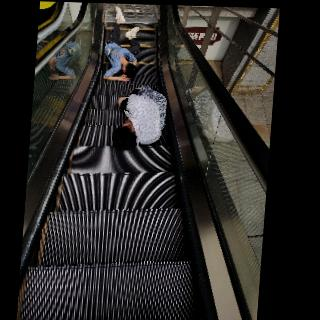anomaly: (108, 84, 173, 153), (96, 5, 146, 84)
